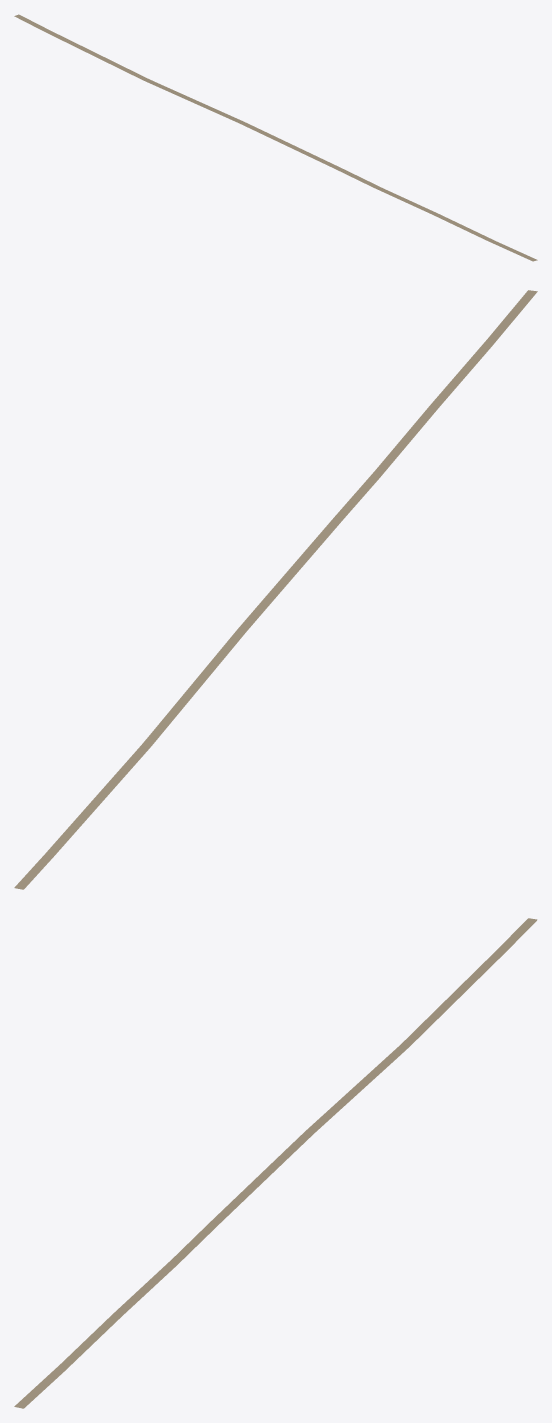
Rendered from farm_-5_12_track.glb.
3 renders of one model, top to bottom at view 1: azimuth 30°, elevation 25°; view 2: azimuth 150°, elevation 25°; view 3: azimuth 330°, elevation 25°, orthographic. The views are drawn at different scales.
Parts seen in each view (by area): view 1: geometry_0; view 2: geometry_0; view 3: geometry_0.
Boxes of the visible parts, x1,y1,x2,y2 form: geometry_0: (14,14,537,261); geometry_0: (14,290,537,889); geometry_0: (14,918,537,1408).
Size of the model in its own units: 64.95 by 18.91 by 428.
